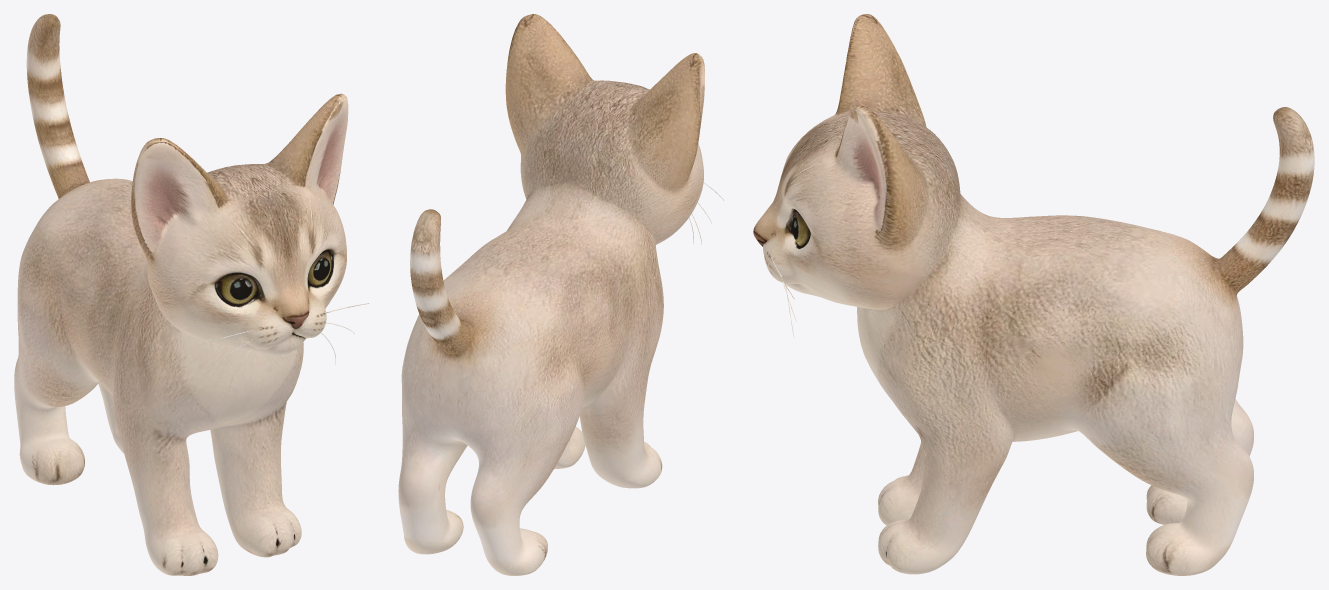
Rendered from meshy-singapura.glb.
3 views of the same model, side by side, from view 1: azimuth 30°, elevation 25°; view 2: azimuth 150°, elevation 25°; view 3: azimuth 270°, elevation 25° (orthographic). The views are drawn at different scales.
Parts seen in each view (by area): view 1: Mesh_0; view 2: Mesh_0; view 3: Mesh_0.
Boxes of the visible parts, bbox=[...] form: Mesh_0: bbox=[14, 14, 369, 575]; Mesh_0: bbox=[398, 14, 723, 575]; Mesh_0: bbox=[753, 14, 1314, 575].
Bounding box in the file's own units: 0.8689 × 1.81 × 1.9.
Materials: 1 (1 with a texture image).
